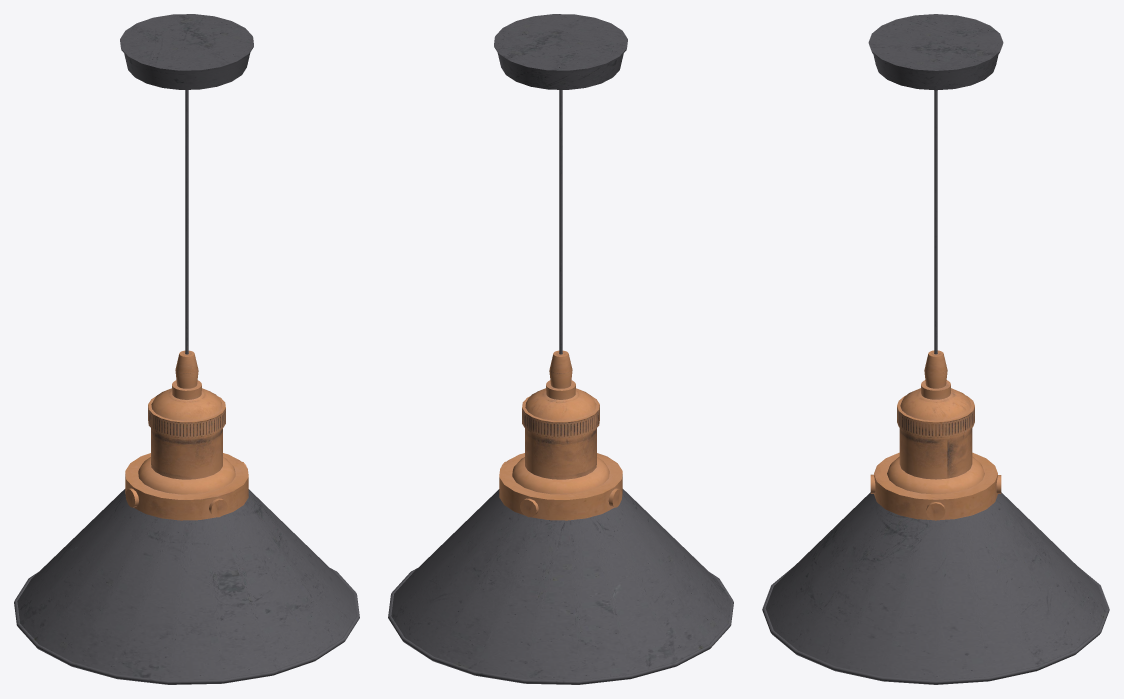
Rendered from Lamp.glb.
The picture shows the model from 3 angles, left to right: view 1: azimuth 30°, elevation 25°; view 2: azimuth 150°, elevation 25°; view 3: azimuth 270°, elevation 25°; orthographic projection.
Visible parts, largest first — view 1: re_lamp_02_0; view 2: re_lamp_02_0; view 3: re_lamp_02_0.
Part boxes in pixels (x1,y1,x2,y2): re_lamp_02_0: (14, 14, 359, 684); re_lamp_02_0: (388, 14, 733, 684); re_lamp_02_0: (762, 14, 1109, 684).
Bounding box in the file's own units: 0.6662 × 1.25 × 0.6662.
Materials: 1 (1 with a texture image).
